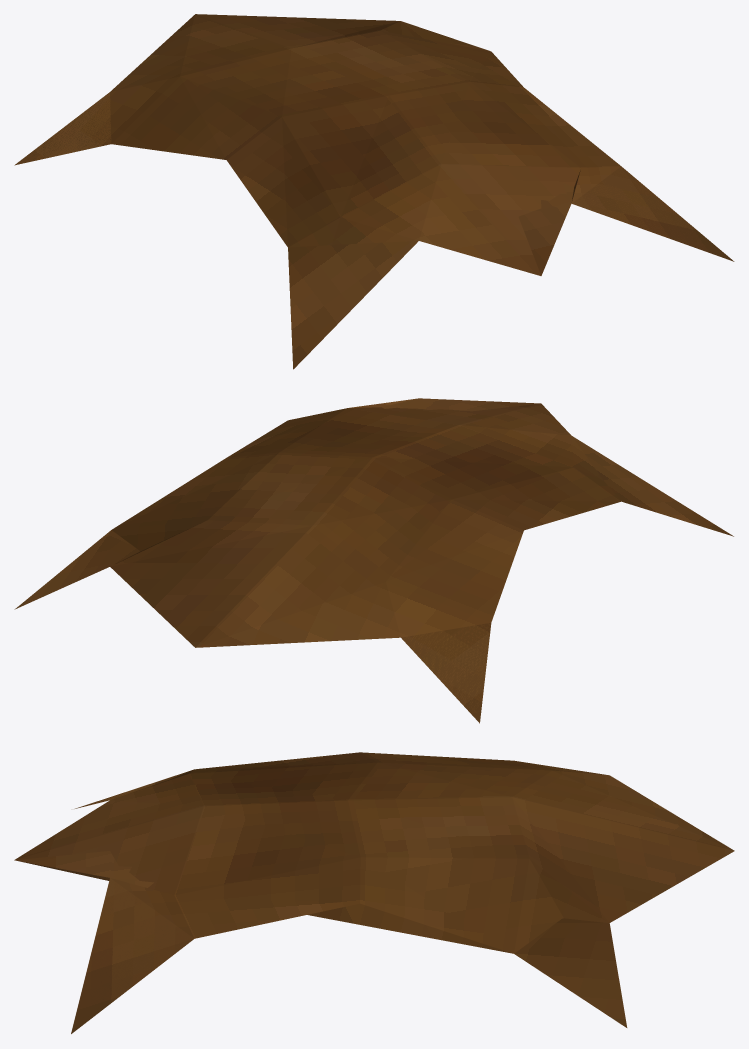
Rendered from Leather.glb.
3 views of the same model, one above another, from view 1: azimuth 30°, elevation 25°; view 2: azimuth 150°, elevation 25°; view 3: azimuth 270°, elevation 25° (orthographic). The views are drawn at different scales.
Visible parts, largest first — view 1: Leather; view 2: Leather; view 3: Leather.
Boxes of the visible parts, x1=… form: Leather: x1=14, y1=14, x2=734, y2=369; Leather: x1=14, y1=398, x2=733, y2=723; Leather: x1=14, y1=752, x2=734, y2=1033.
Size of the model in its own units: 0.5313 by 0.1319 by 0.6834.
Materials: 1 (1 with a texture image).
